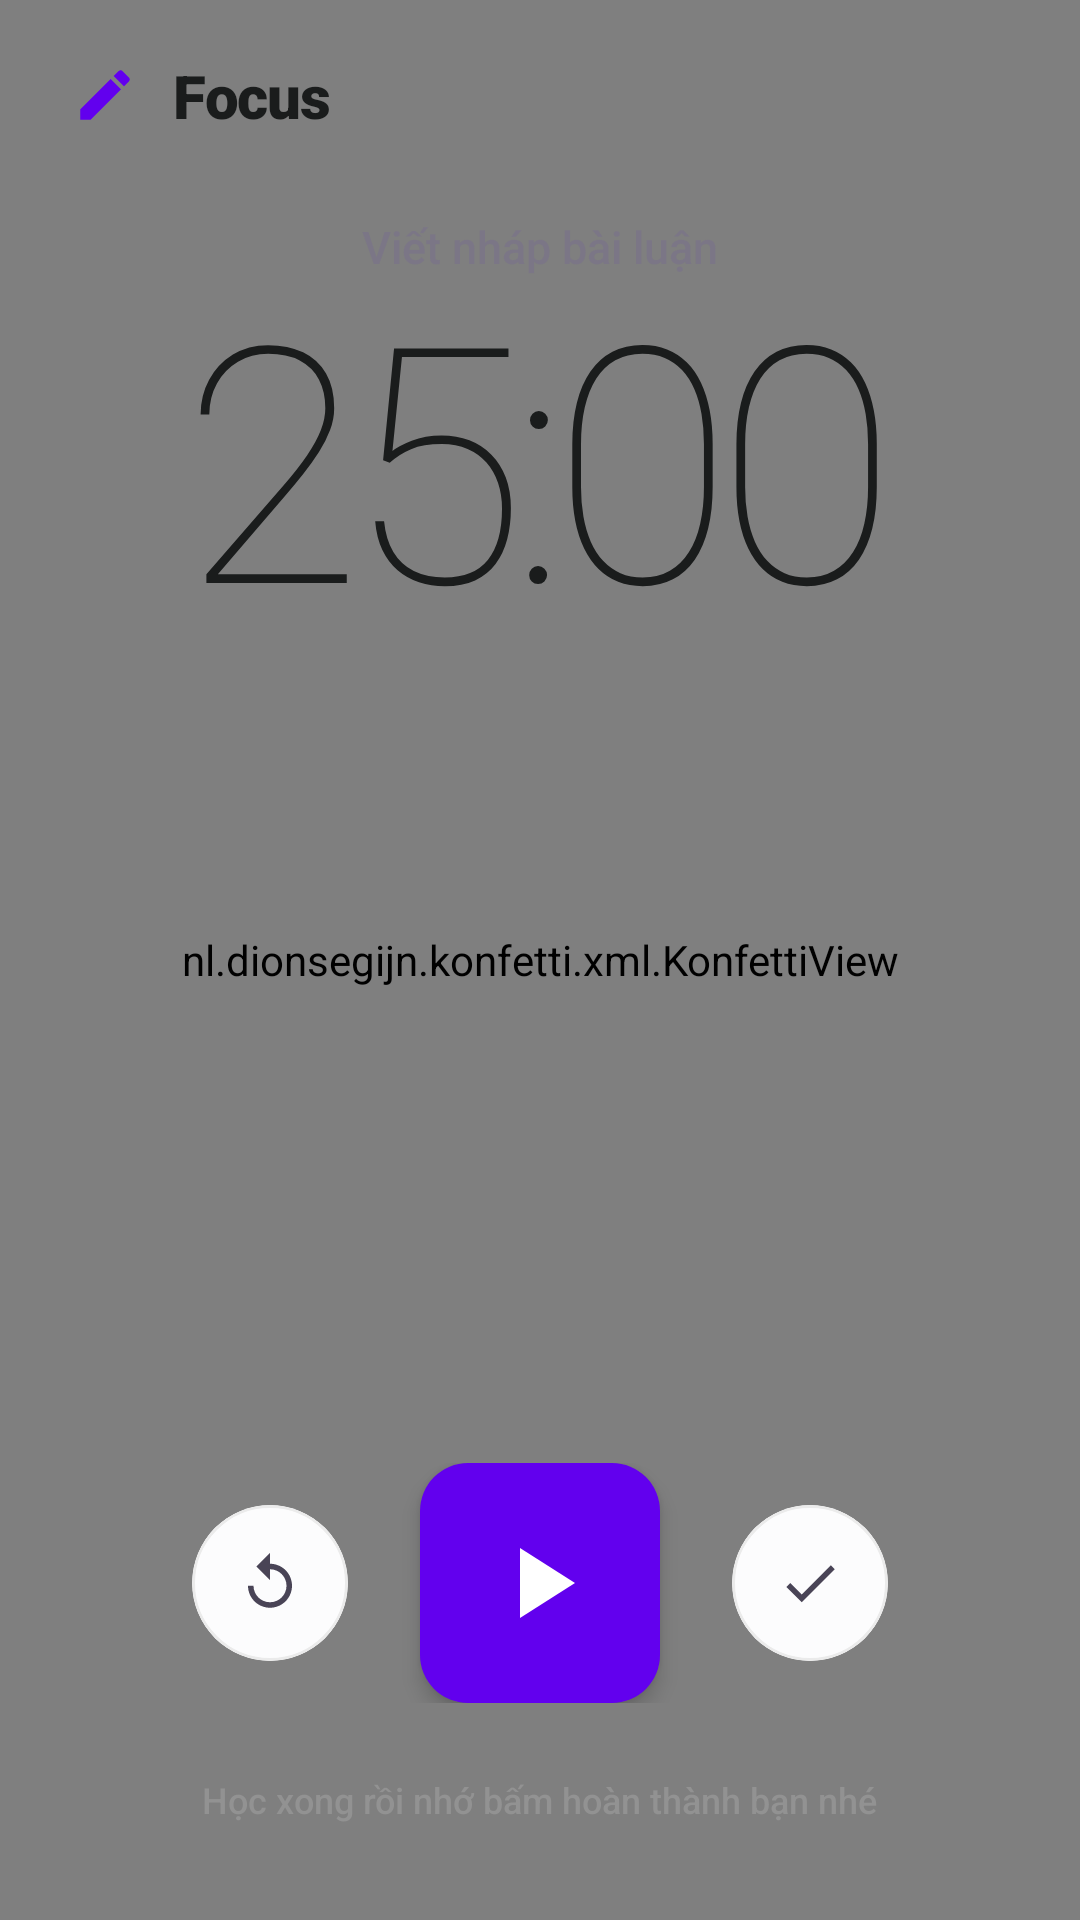

Icon click points for this 1080 x 1920 phone screenshot, format [x,y]:
check: [810,1583]
edit: [105,95]
play arrow: [540,1583]
replay: [270,1580]
